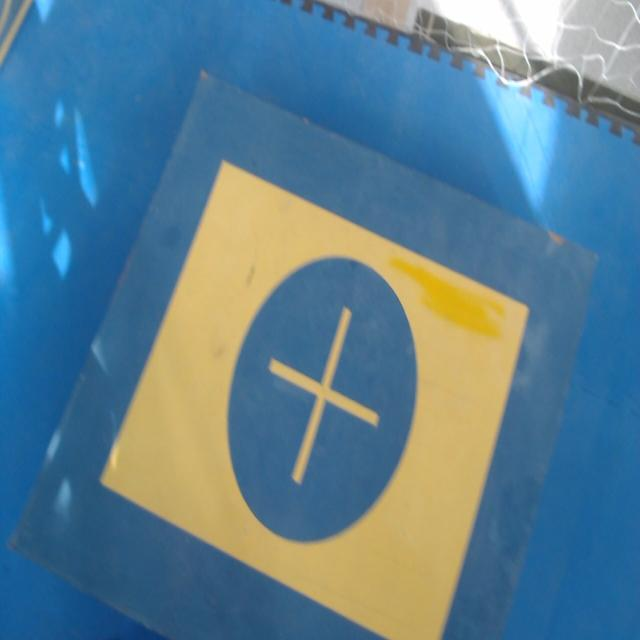base_inicio: (100, 160, 529, 639)
